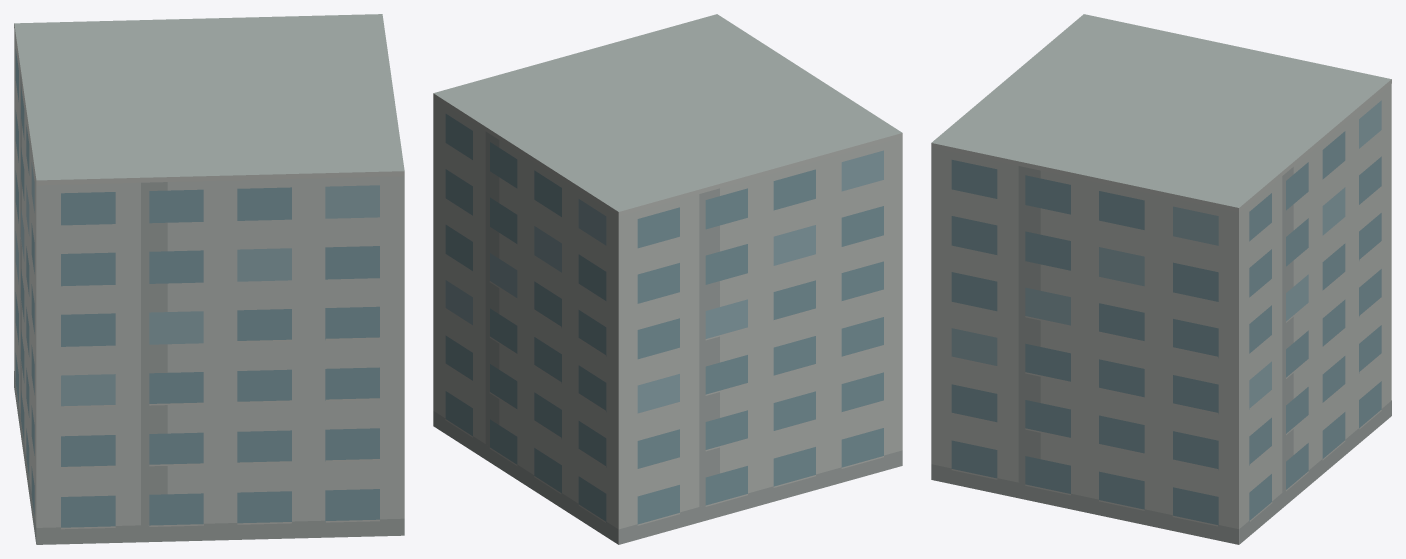
The model's file is residential-0b5440c2-693b-4e65-a4e5-4033a0c2fb91.glb.
3 renders of one model, left to right at view 1: azimuth 30°, elevation 25°; view 2: azimuth 150°, elevation 25°; view 3: azimuth 270°, elevation 25°, orthographic. The views are drawn at different scales.
Visible parts, largest first — view 1: residential-0b5440c2-693b-4e65-a4e5-4033a0c2fb91.tmp; view 2: residential-0b5440c2-693b-4e65-a4e5-4033a0c2fb91.tmp; view 3: residential-0b5440c2-693b-4e65-a4e5-4033a0c2fb91.tmp.
Boxes of the visible parts, left/top/right/bottom form: residential-0b5440c2-693b-4e65-a4e5-4033a0c2fb91.tmp: left=14, top=14, right=404, bottom=544; residential-0b5440c2-693b-4e65-a4e5-4033a0c2fb91.tmp: left=433, top=14, right=902, bottom=544; residential-0b5440c2-693b-4e65-a4e5-4033a0c2fb91.tmp: left=931, top=14, right=1391, bottom=544.
Bounding box in the file's own units: 22.24 × 18 × 22.31.
